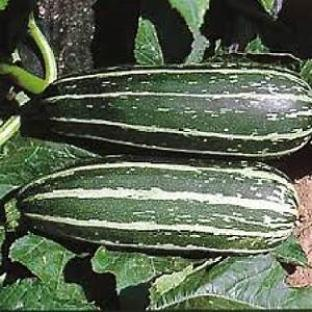Zucchini: (15, 156, 297, 253), (24, 64, 311, 157)
